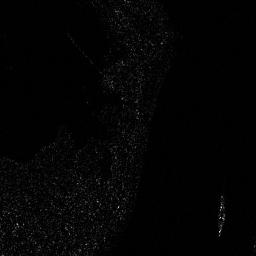ship: (217, 196, 226, 239)
